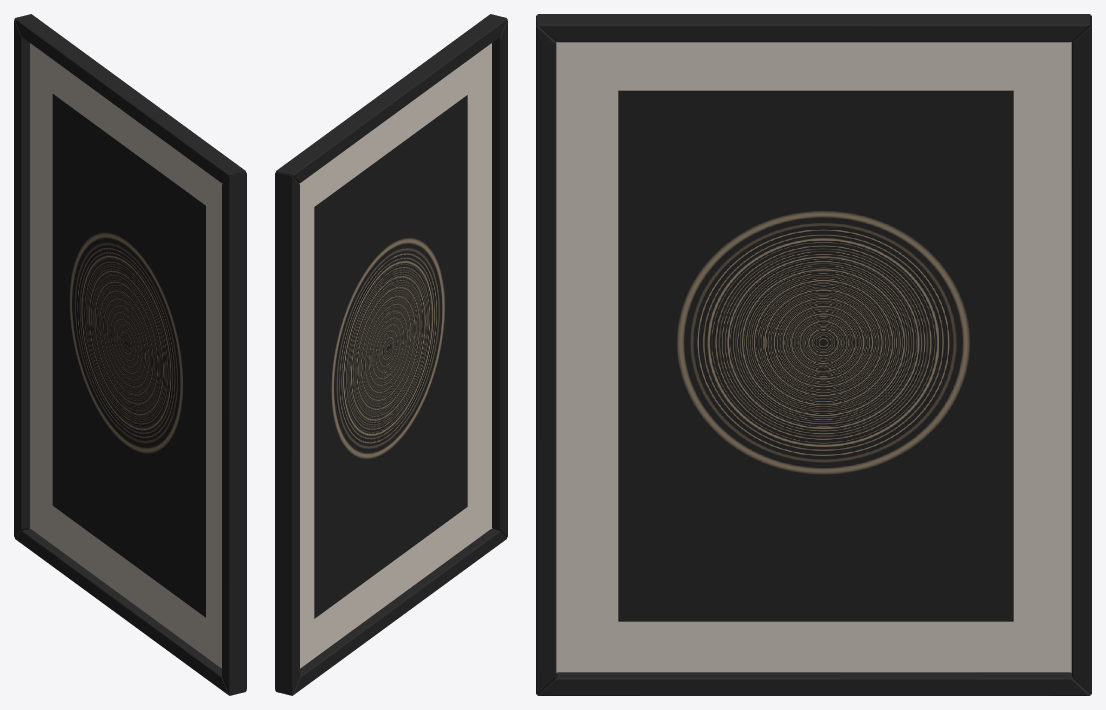
The model's file is Scandi_Painting 2.gltf.
3 renders of one model, left to right at view 1: azimuth 30°, elevation 25°; view 2: azimuth 150°, elevation 25°; view 3: azimuth 270°, elevation 25°, orthographic. The views are drawn at different scales.
Visible parts, largest first — view 1: Art 01; view 2: Art 01; view 3: Art 01.
Boxes of the visible parts, x1,y1,x2,y2 form: Art 01: (14,14,246,695); Art 01: (275,14,507,695); Art 01: (536,14,1091,695).
Size of the model in its own units: 0.0497 by 1.33 by 0.9942.
3 materials, 1 textured.
